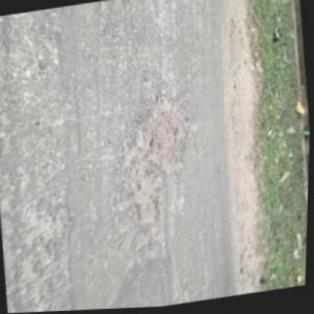Hueco: (112, 90, 205, 230)
